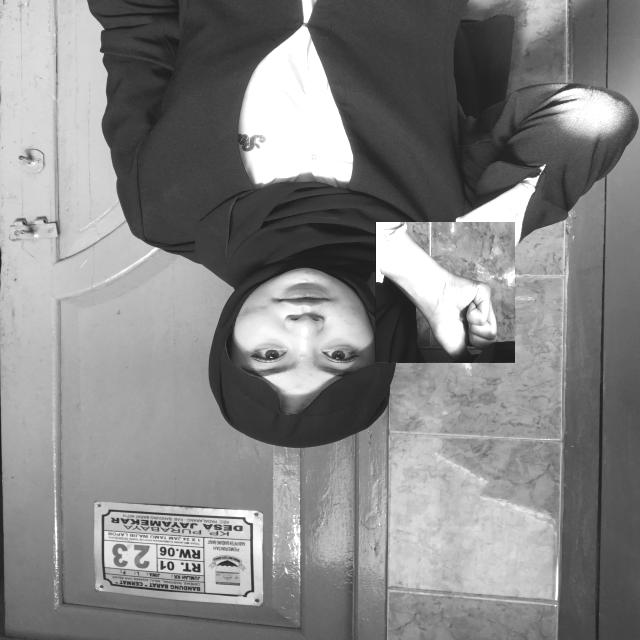ibu: (375, 222, 516, 362)
